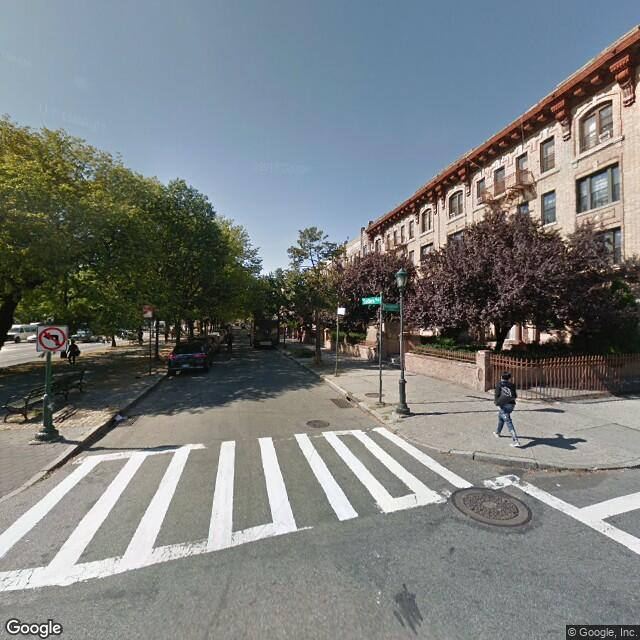litter: (112, 413, 130, 421), (554, 480, 565, 490), (167, 374, 174, 380)
